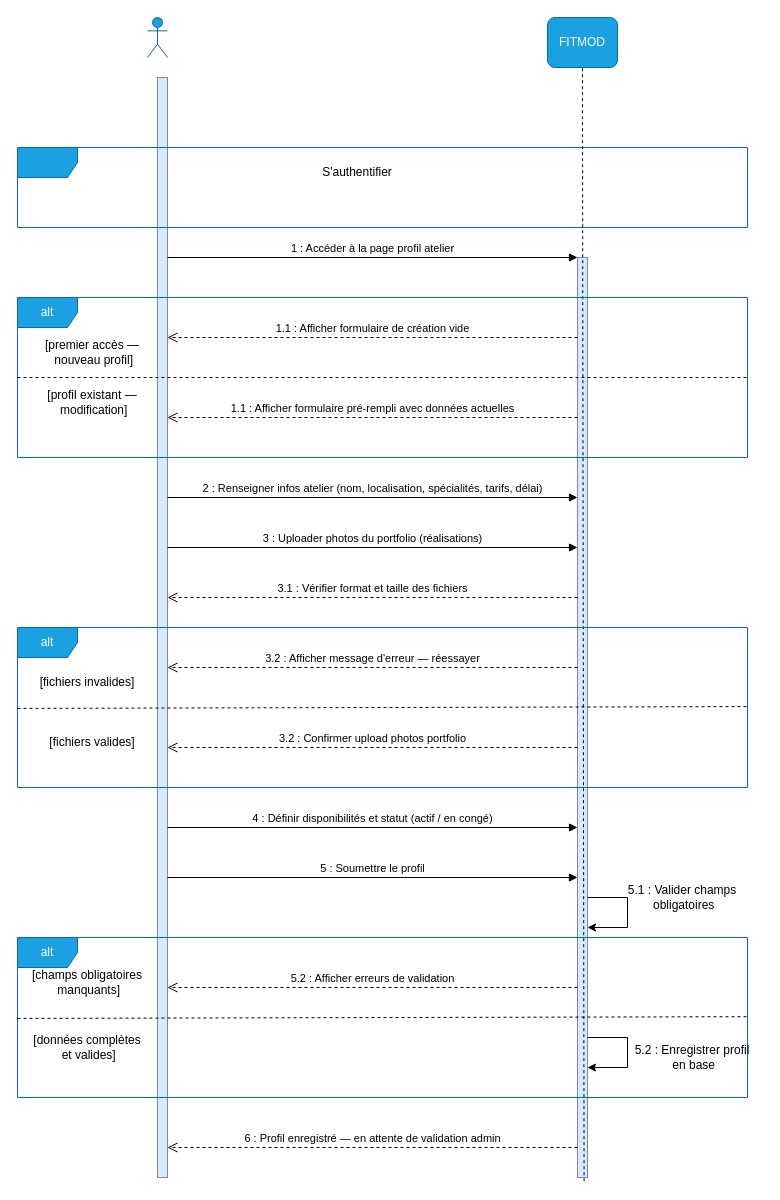
Some shapes in this 780 by 1200 pixel diagram are drawn without their labels. Each missing label, with the centre of its shape:
"ref" belongs at (x=382, y=187).
"Tailleur" belongs at (x=157, y=37).
